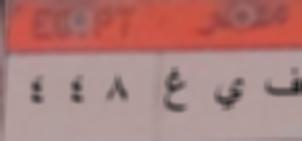8: (60, 69, 97, 109), (105, 71, 136, 107)
faa: (262, 64, 302, 104)
ghayn: (160, 64, 191, 117)
yaa: (212, 74, 248, 112)
